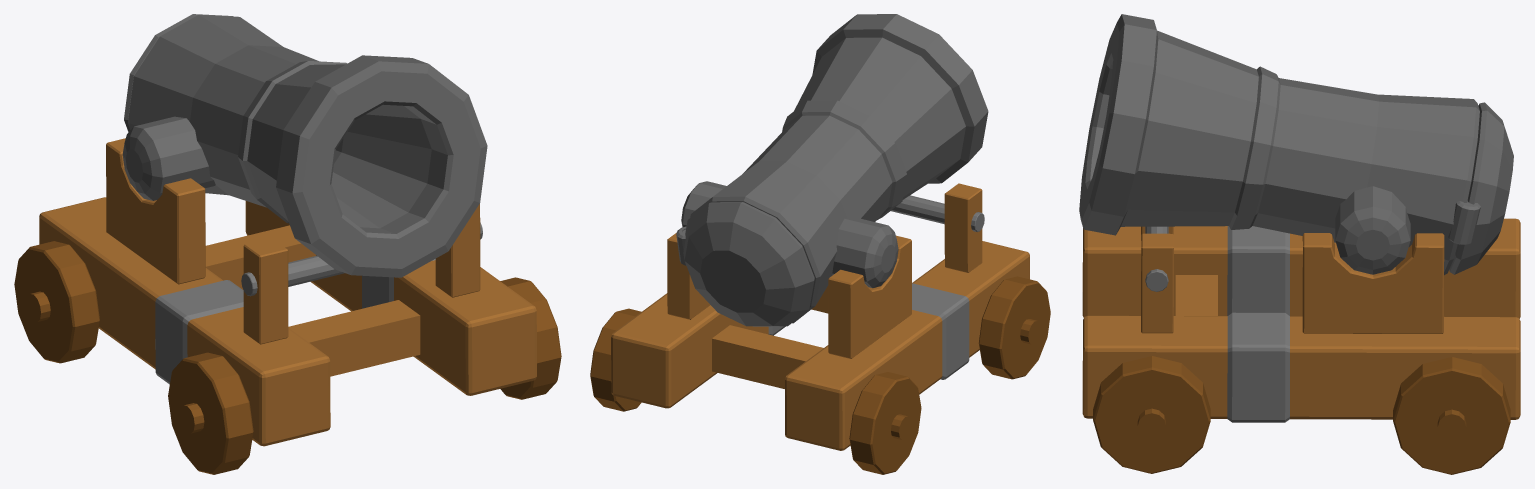
The model's file is cannon.fbx.
3 renders of one model, left to right at view 1: azimuth 30°, elevation 25°; view 2: azimuth 150°, elevation 25°; view 3: azimuth 270°, elevation 25°, orthographic. The views are drawn at different scales.
Visible parts, largest first — view 1: Cannon_Wagon, Cap; view 2: Cannon_Wagon, Cap; view 3: Cannon_Wagon, Cap.
Boxes of the visible parts, x1,y1,x2,y2 form: Cannon_Wagon: (14,14,561,474); Cap: (124,14,233,131); Cannon_Wagon: (590,14,1050,474); Cap: (683,202,814,326); Cannon_Wagon: (1079,14,1520,474); Cap: (1449,102,1513,274).
Size of the model in its own units: 104 by 106 by 114.
